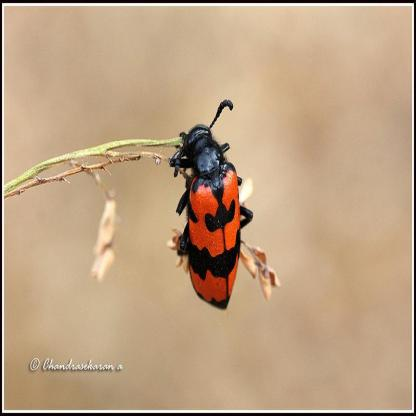beetle: (170, 102, 255, 320)
